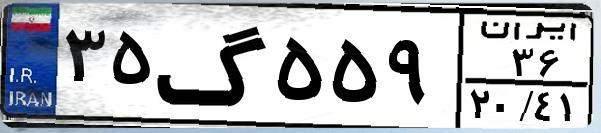0: (495, 70, 520, 125)
1: (560, 70, 590, 125)
2: (470, 70, 495, 125)
3: (57, 26, 110, 100), (508, 27, 537, 80)
4: (535, 70, 560, 125)
5: (270, 28, 330, 110), (330, 28, 385, 110), (110, 28, 156, 98)
6: (537, 27, 568, 80)
9: (385, 28, 445, 110)
گ: (156, 12, 270, 120)
